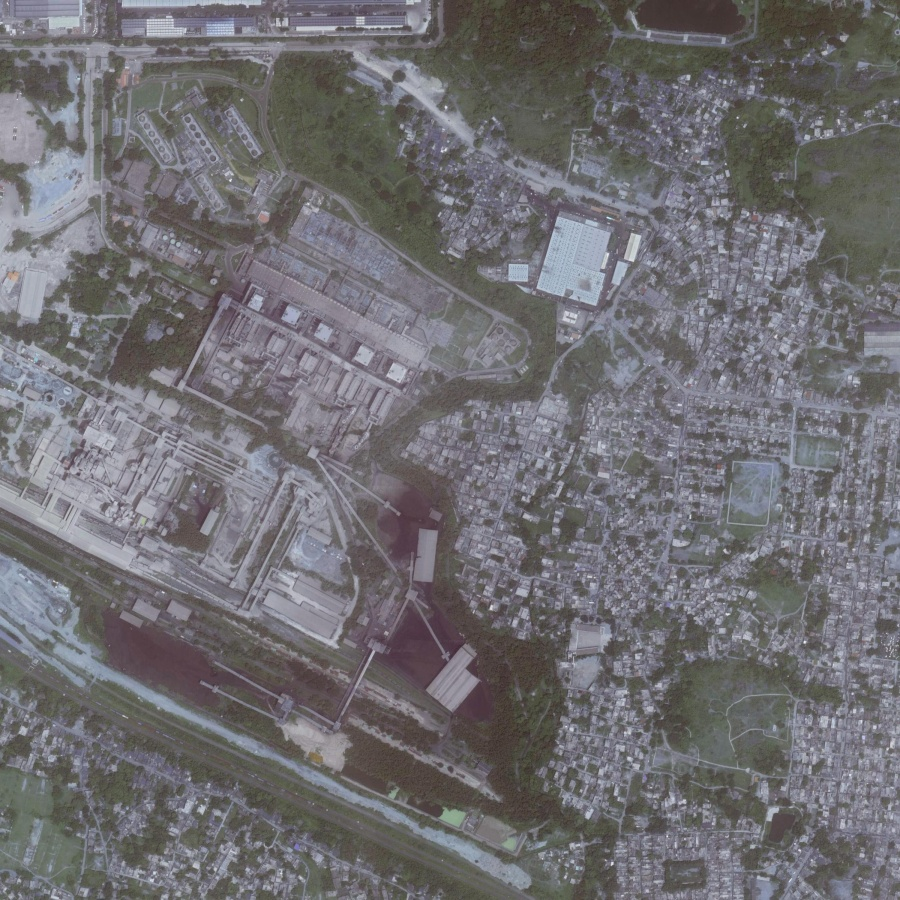PowerPlant: (23, 272, 529, 730)
